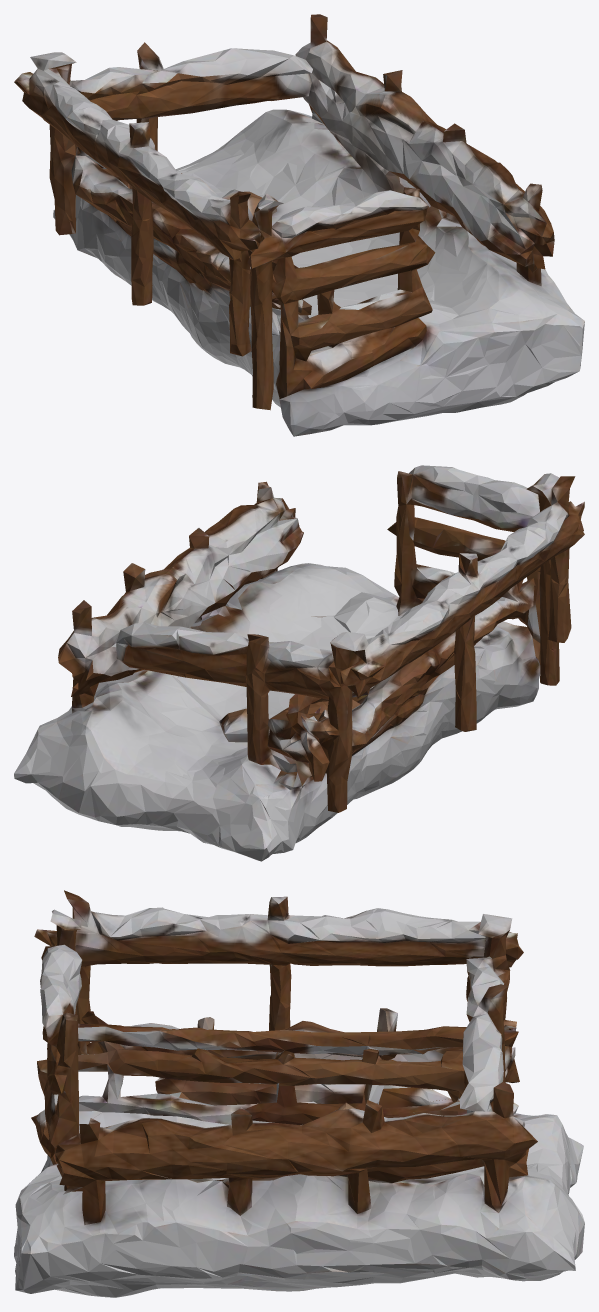
The model's file is bar_trench.glb.
3 views of the same model, one above another, from view 1: azimuth 30°, elevation 25°; view 2: azimuth 150°, elevation 25°; view 3: azimuth 270°, elevation 25° (orthographic). The views are drawn at different scales.
Visible parts, largest first — view 1: bar_trench_tex; view 2: bar_trench_tex; view 3: bar_trench_tex.
Boxes of the visible parts, left/top/right/bottom form: bar_trench_tex: left=14, top=14, right=584, bottom=436; bar_trench_tex: left=14, top=465, right=584, bottom=861; bar_trench_tex: left=14, top=890, right=584, bottom=1297.
Bounding box in the file's own units: 3.39 × 2.44 × 4.6.
1 material, 1 textured.
